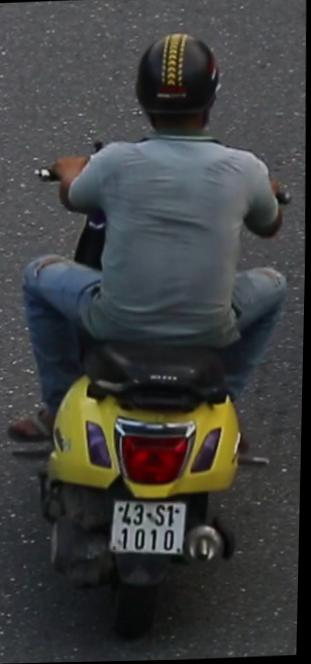LP: (107, 489, 194, 565)
helmet: (124, 25, 226, 152)
